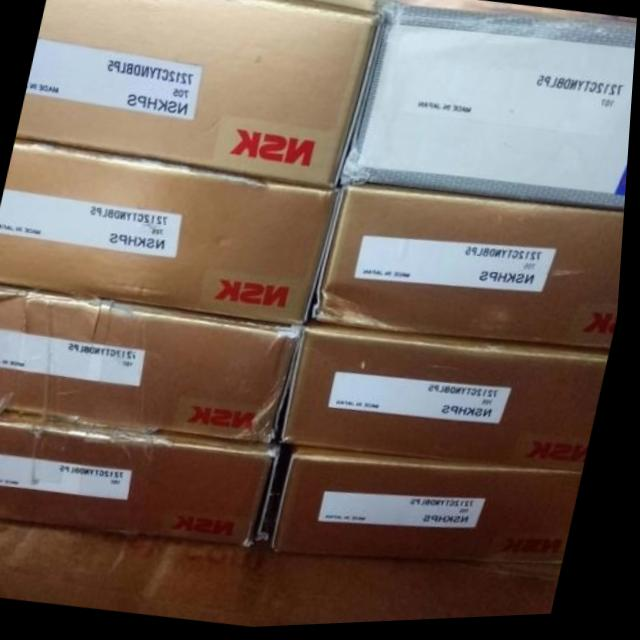box: (19, 0, 385, 191), (0, 139, 343, 329), (343, 0, 638, 218), (317, 186, 627, 354), (0, 285, 309, 449), (287, 325, 615, 479), (0, 411, 300, 549), (279, 448, 589, 568)
